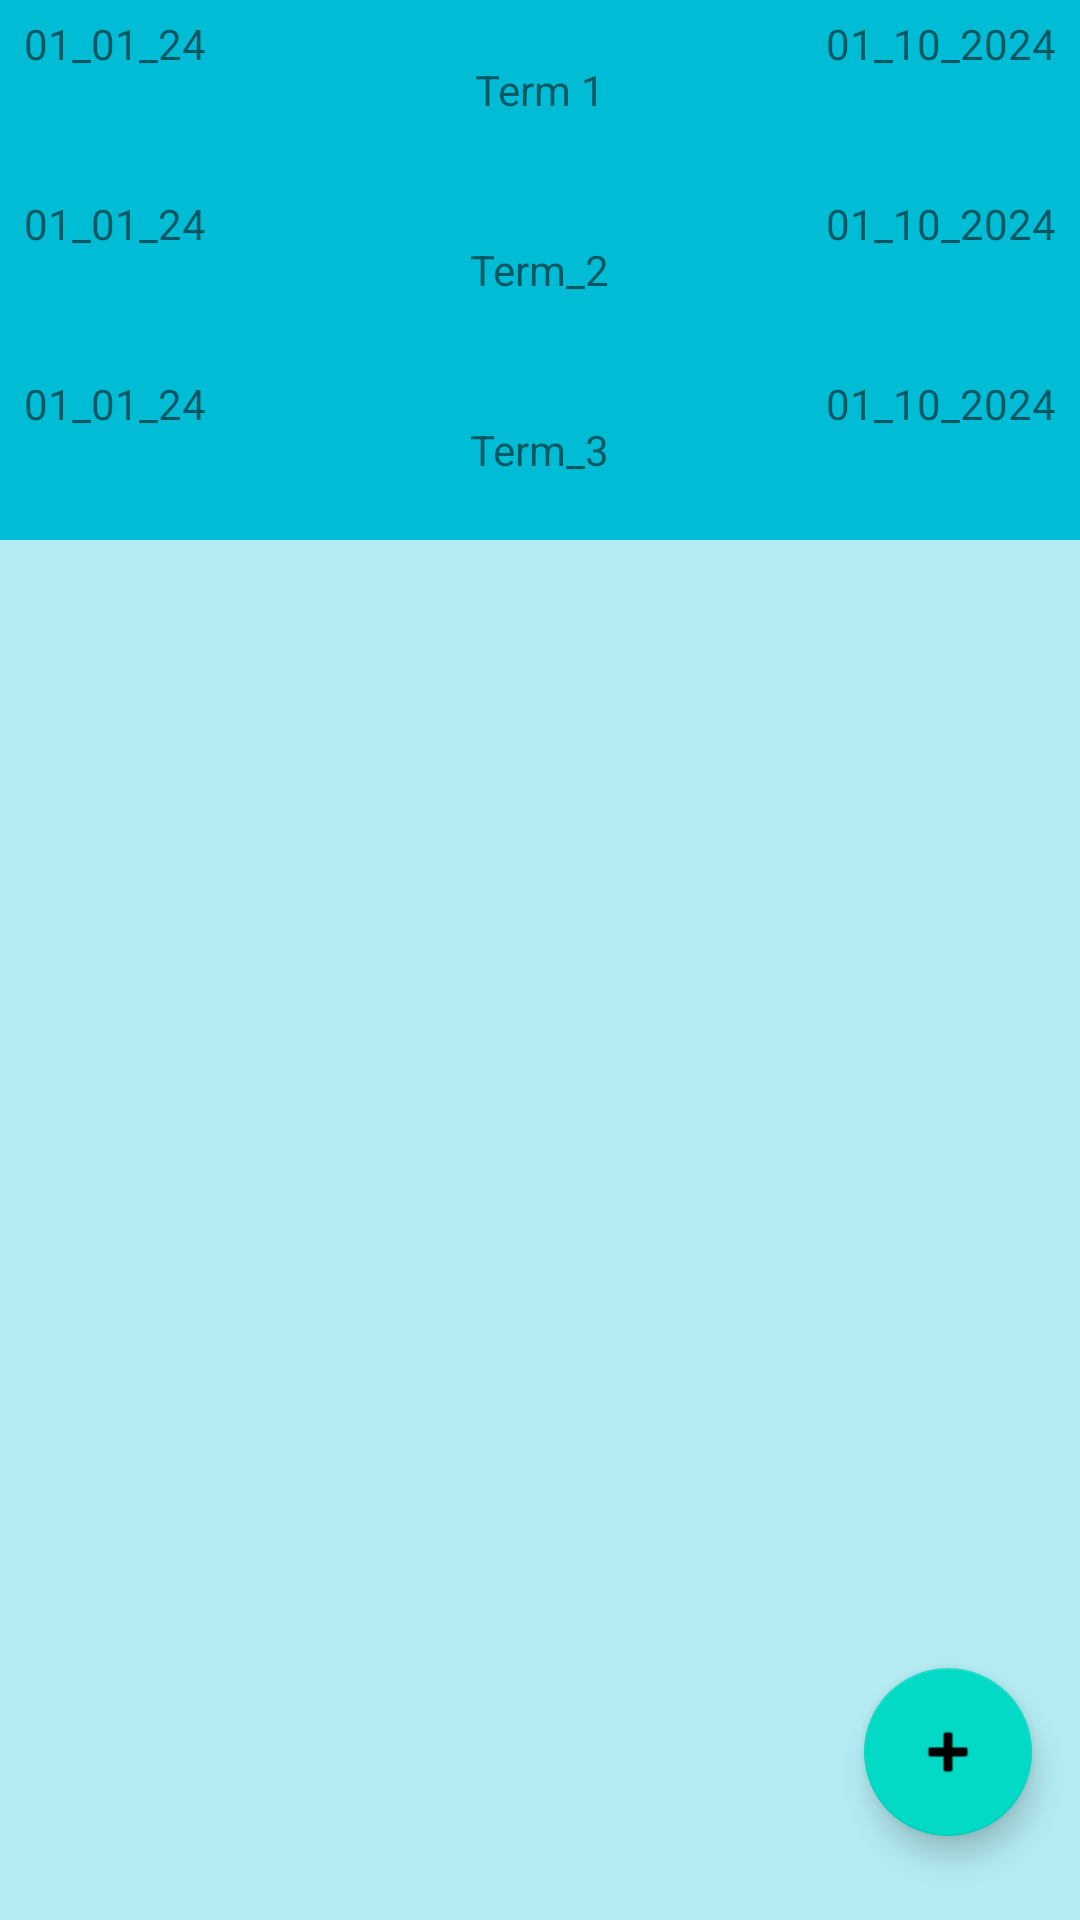

Point at icon controls on the screen. Image size 1080px x 1920px, points as [x,y].
add: [948,1752]
